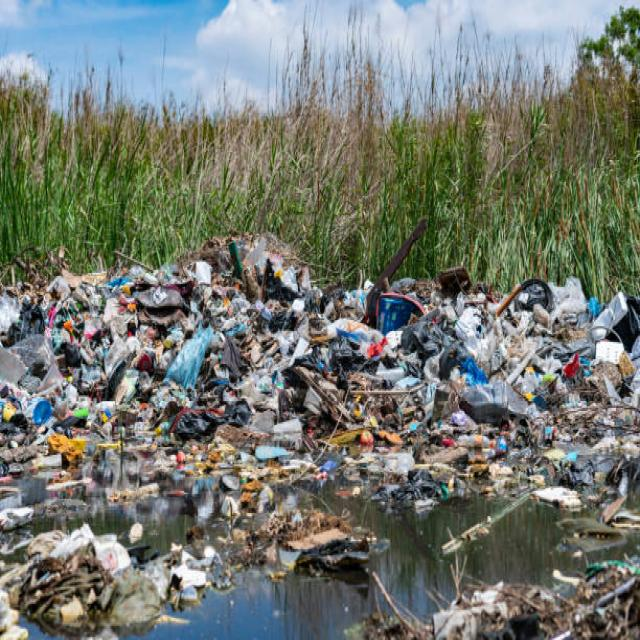plastic: (9, 282, 632, 505)
